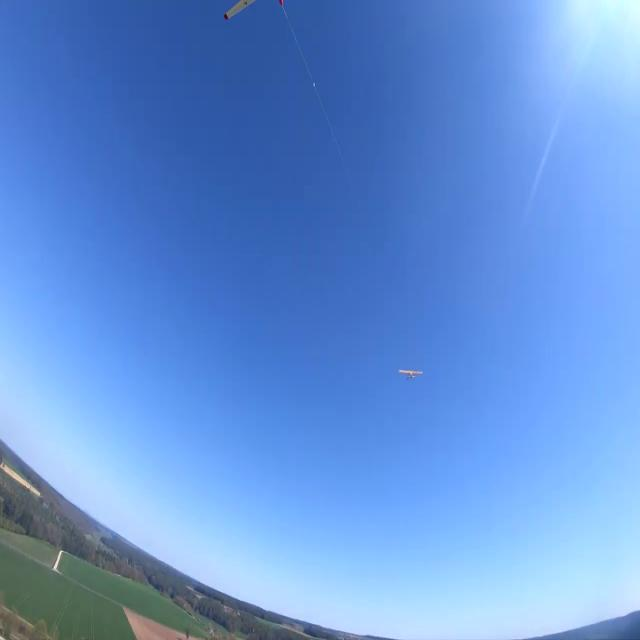iha: (397, 365, 425, 383)
